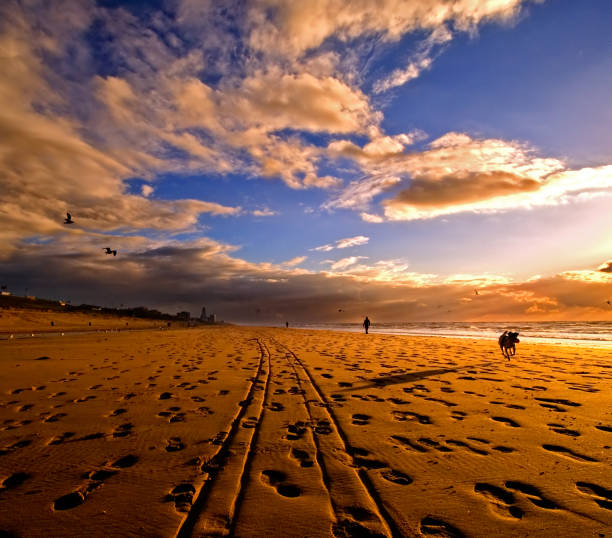vehicle_track: (271, 338, 405, 536), (176, 339, 270, 537)
